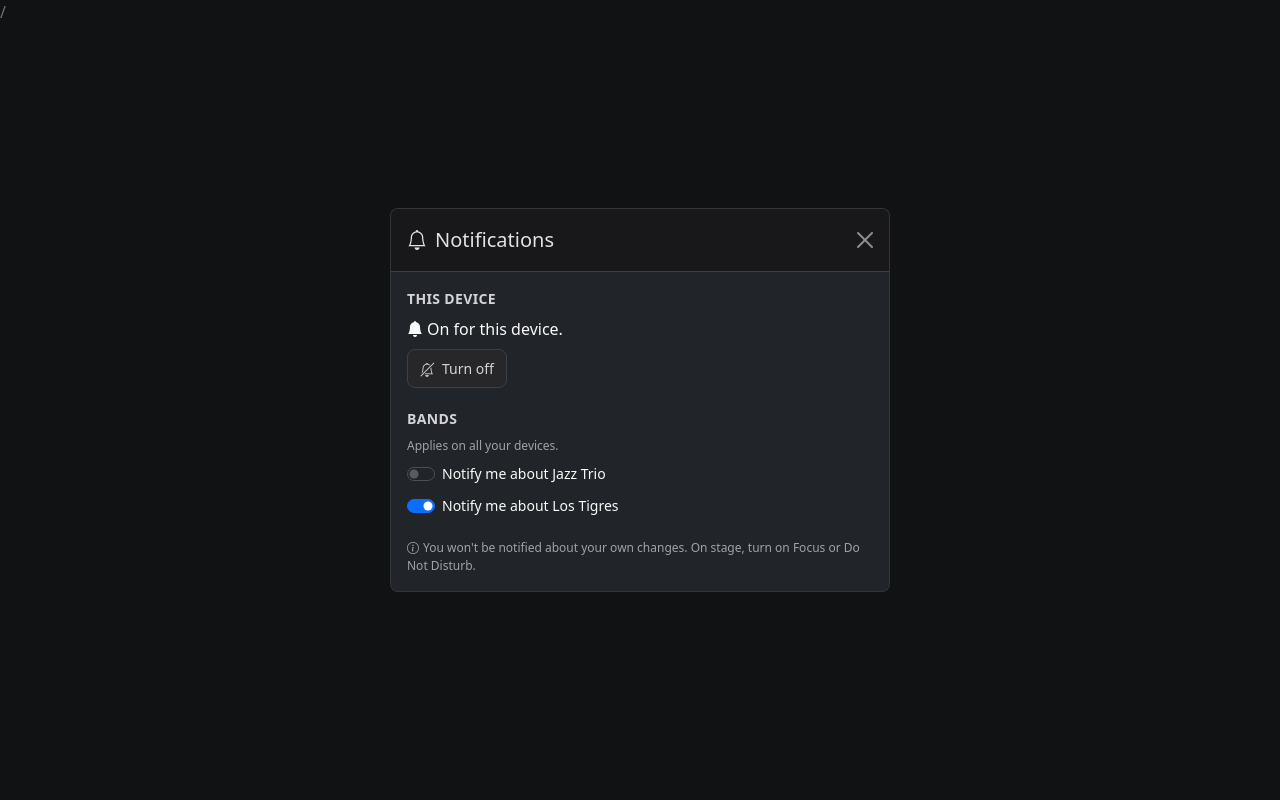
Test: NotificationSettingsModal › re-syncs an existing subscription on open, and turns it off
Click the button "Turn off" at (457, 368), box [407, 349, 507, 388]
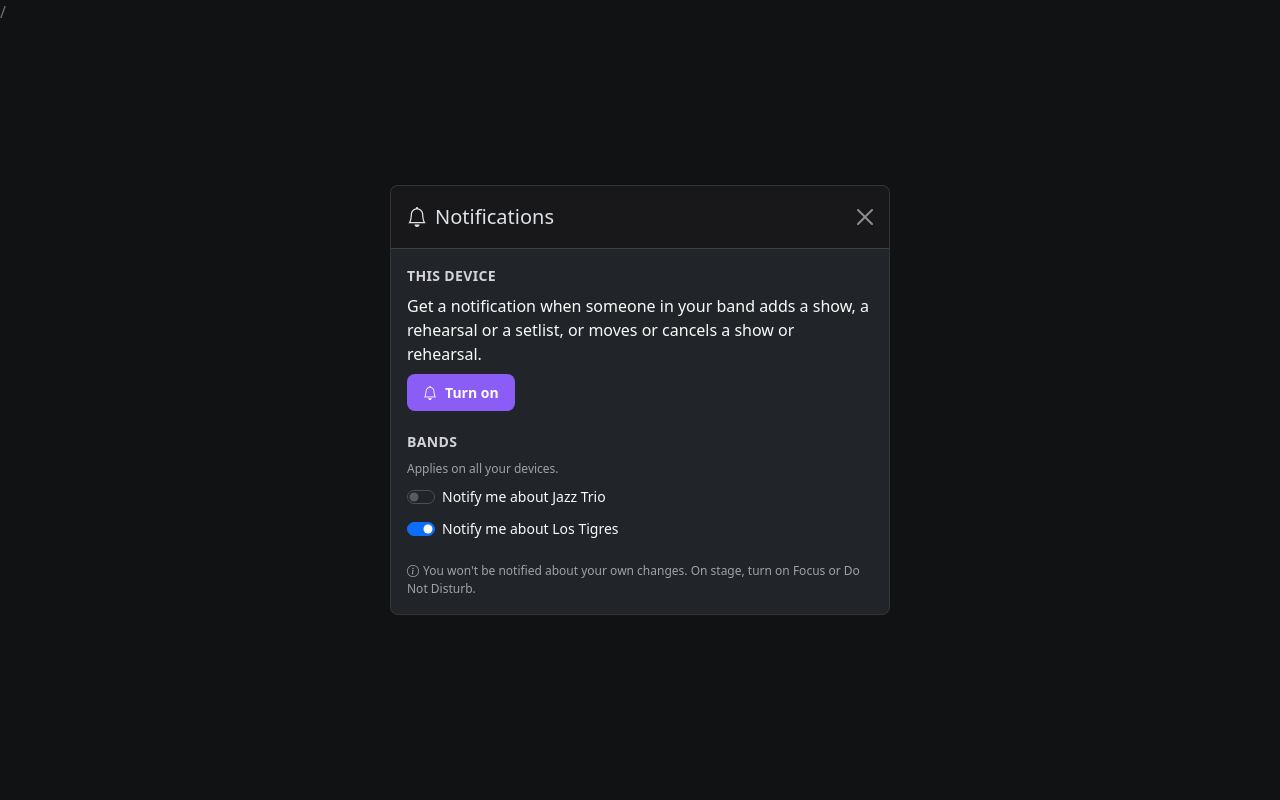
Check: the button "Turn on" is shown, box [407, 374, 515, 411]
